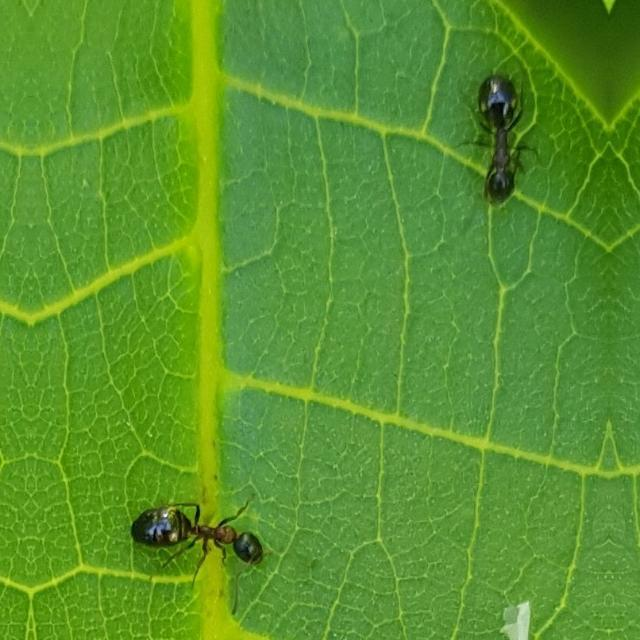Dolichoderus: (110, 478, 288, 588), (452, 58, 538, 222)
